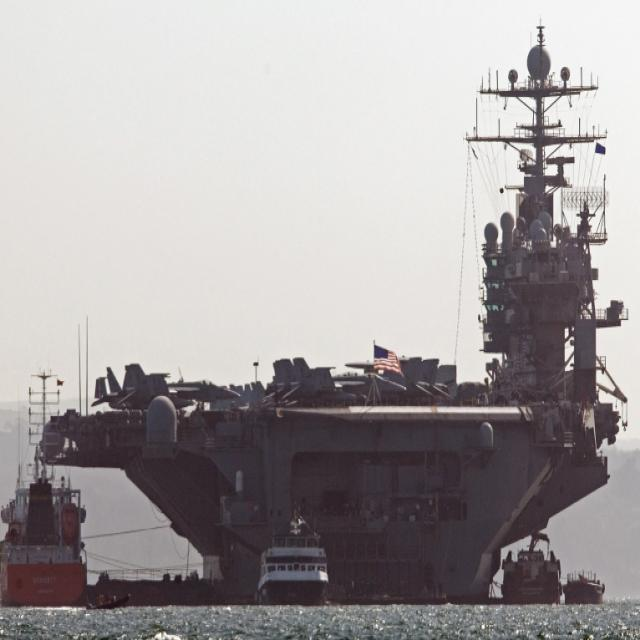Portanaves: (38, 21, 628, 609)
